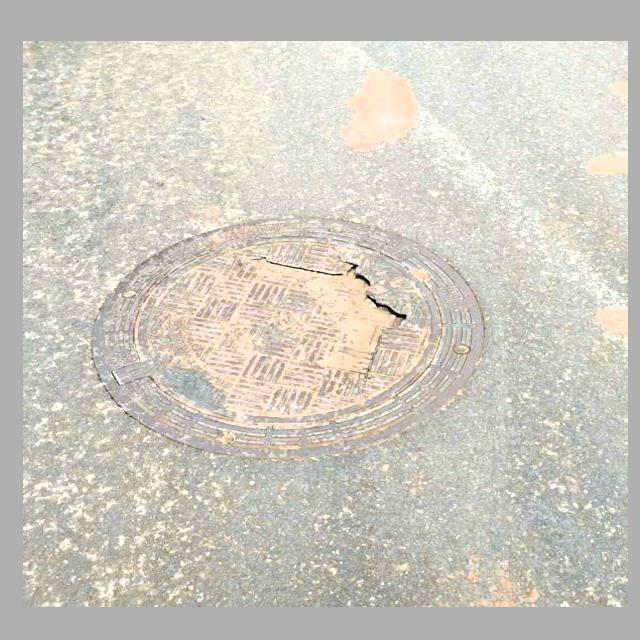broke: (95, 205, 479, 449)
